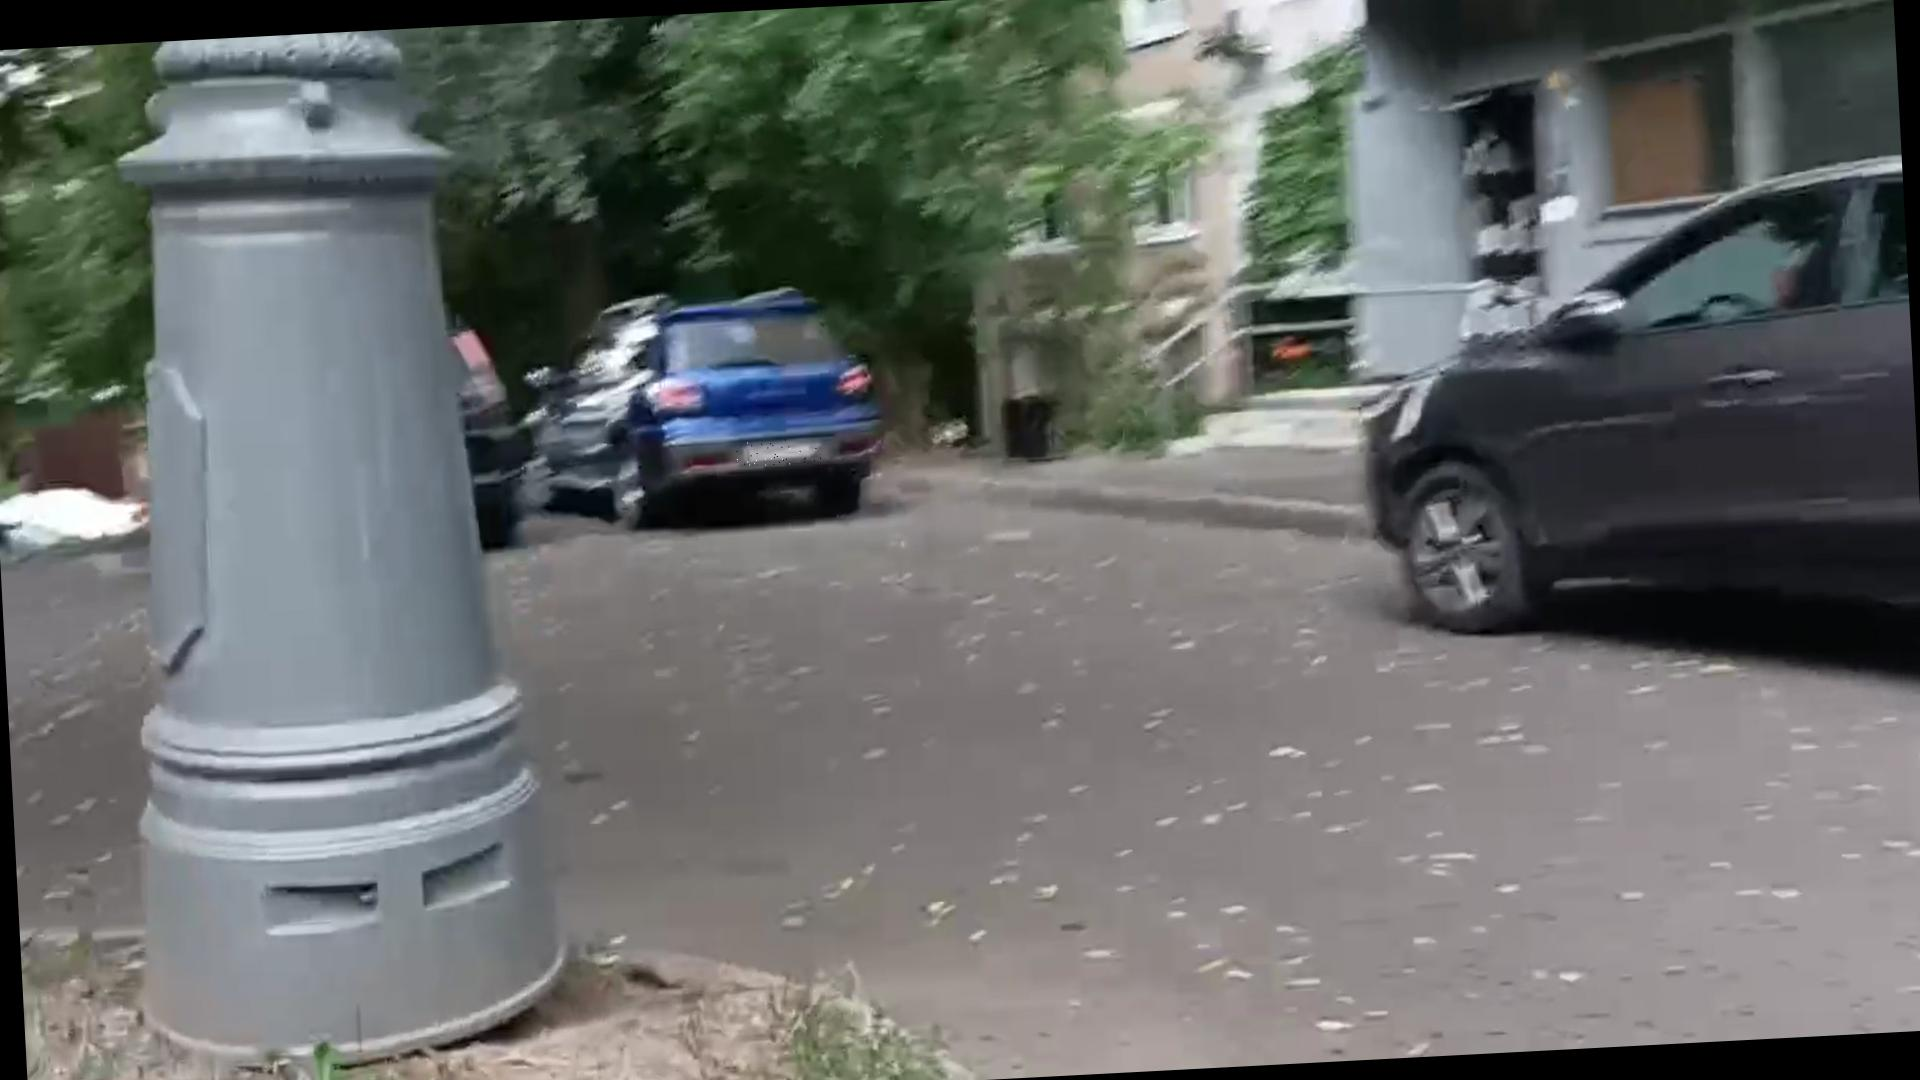plate: (737, 439, 822, 468)
